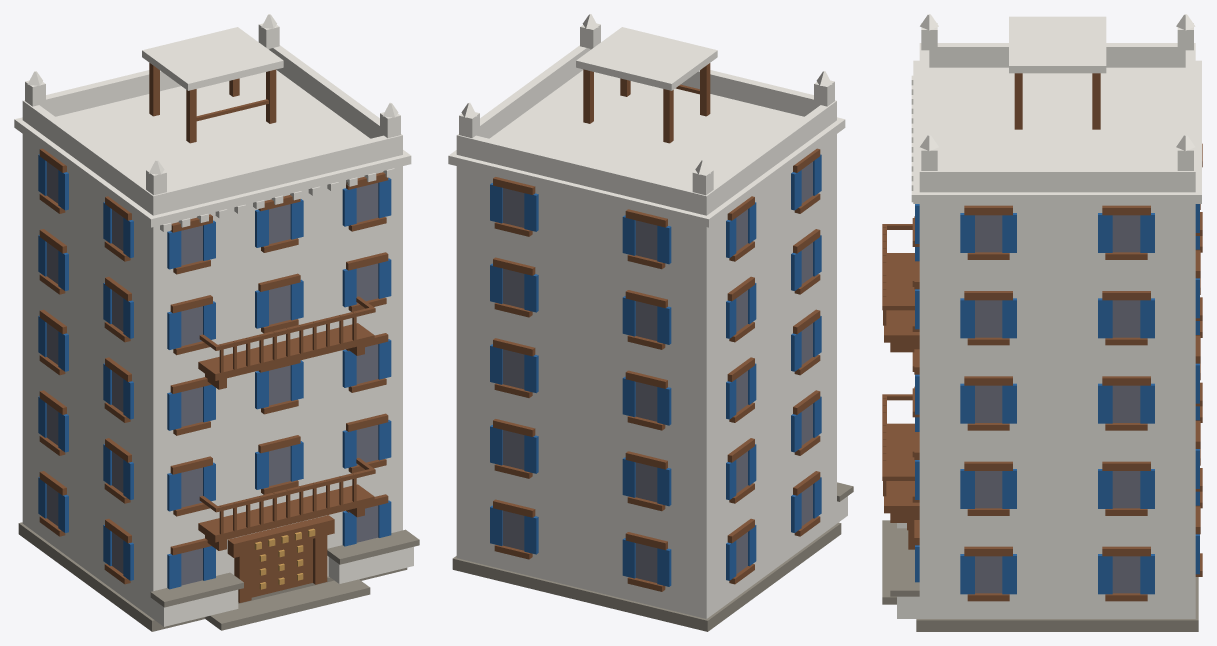
File: house-1x1-5f-swahili-a.glb
The picture shows the model from 3 angles, left to right: view 1: azimuth 30°, elevation 25°; view 2: azimuth 150°, elevation 25°; view 3: azimuth 270°, elevation 25°; orthographic projection. The views are drawn at different scales.
Visible parts, largest first — view 1: house-1x1-5f-swahili-a; view 2: house-1x1-5f-swahili-a; view 3: house-1x1-5f-swahili-a.
Part boxes in pixels (box(x1,y1,x2,y2)): house-1x1-5f-swahili-a: box(14, 14, 419, 631); house-1x1-5f-swahili-a: box(448, 14, 853, 631); house-1x1-5f-swahili-a: box(882, 14, 1202, 631).
Size of the model in its own units: 0.984 by 1.78 by 0.987.
1 material, 1 textured.
